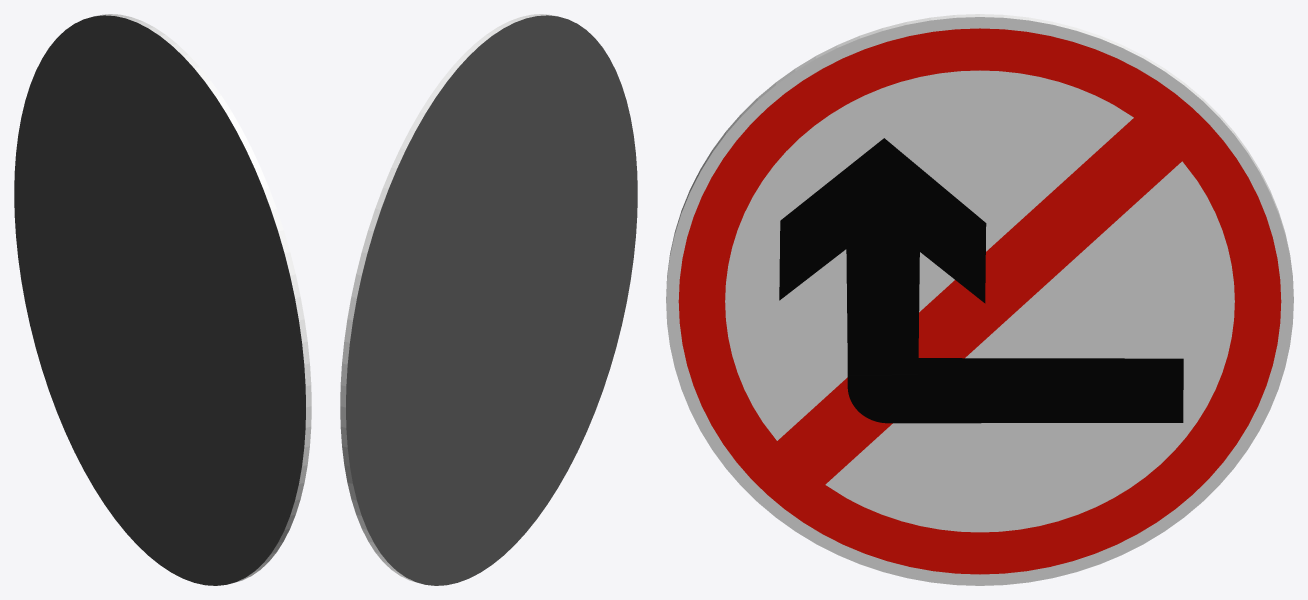
The model's file is 禁止右转.gltf.
3 views of the same model, side by side, from view 1: azimuth 30°, elevation 25°; view 2: azimuth 150°, elevation 25°; view 3: azimuth 270°, elevation 25° (orthographic). The views are drawn at different scales.
Visible parts, largest first — view 1: 圆环; view 2: 圆环; view 3: 圆环, BezierCurve.002.
Boxes of the visible parts, x1=… form: 圆环: x1=14, y1=14, x2=311, y2=585; 圆环: x1=340, y1=14, x2=637, y2=585; 圆环: x1=666, y1=14, x2=1293, y2=585; BezierCurve.002: x1=779, y1=138, x2=1183, y2=423.
Size of the model in its own units: 0.0101 by 0.8 by 0.8.
